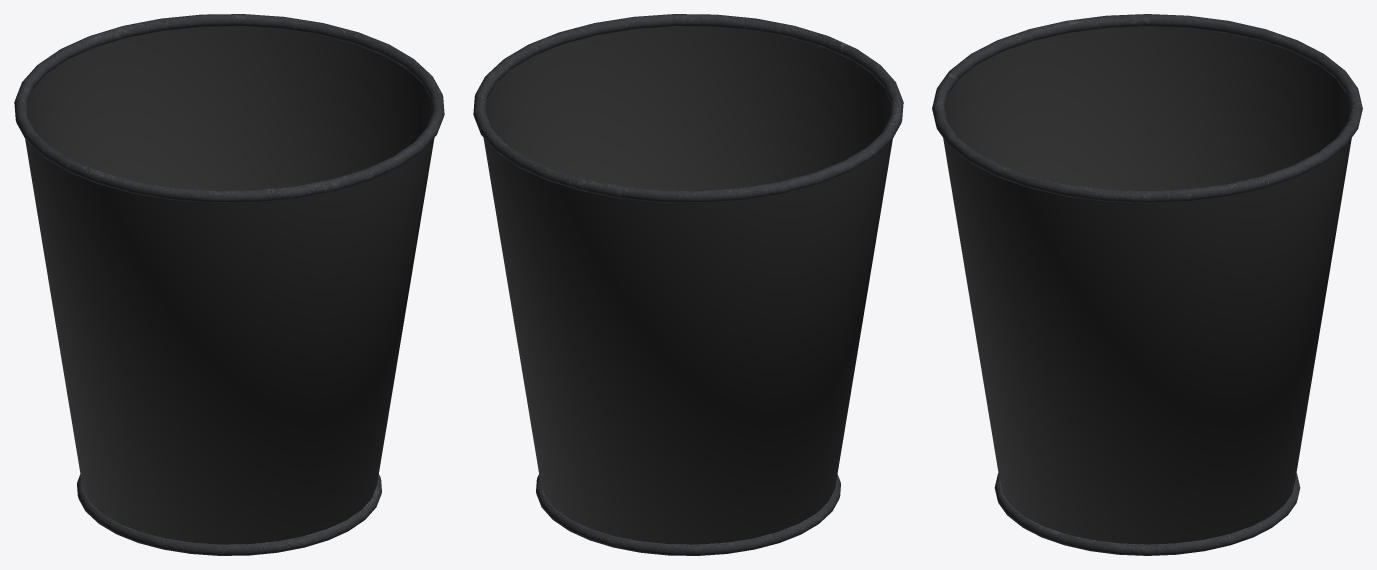
File: trash-can.obj
3 renders of one model, left to right at view 1: azimuth 30°, elevation 25°; view 2: azimuth 150°, elevation 25°; view 3: azimuth 270°, elevation 25°, orthographic.
Parts seen in each view (by area): view 1: SM_TrashCan; view 2: SM_TrashCan; view 3: SM_TrashCan.
Boxes of the visible parts, left/top/right/bottom form: SM_TrashCan: left=14, top=14, right=444, bottom=555; SM_TrashCan: left=473, top=14, right=903, bottom=555; SM_TrashCan: left=932, top=14, right=1362, bottom=555.
Bounding box in the file's own units: 0.2678 × 0.2678 × 0.2678.
1 material, 1 textured.
